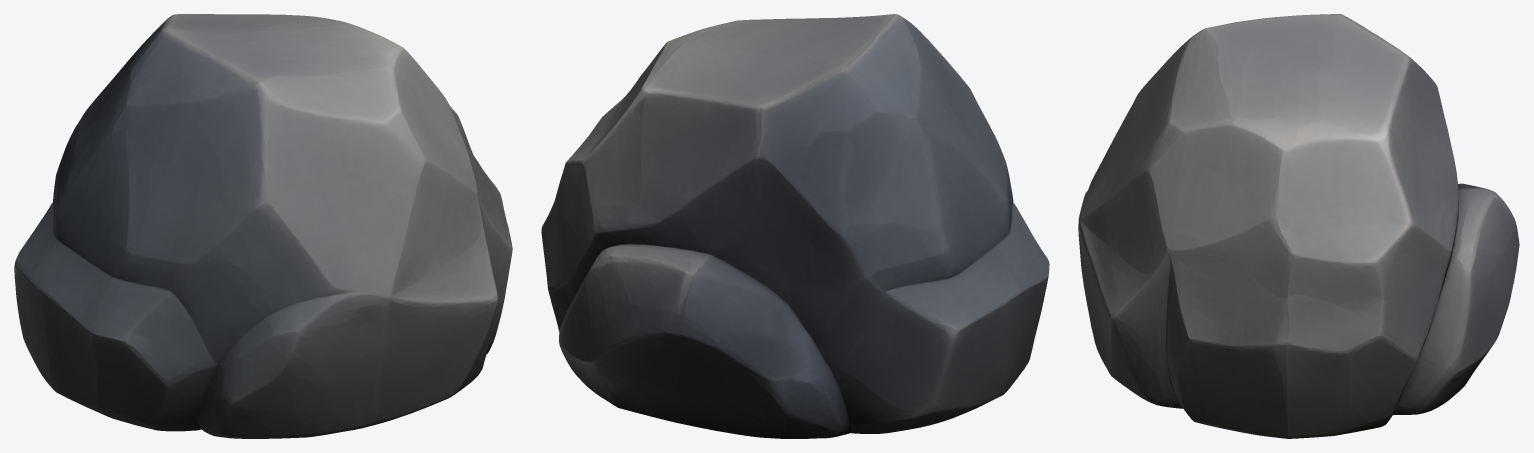
The model's file is rock.glb.
3 views of the same model, side by side, from view 1: azimuth 30°, elevation 25°; view 2: azimuth 150°, elevation 25°; view 3: azimuth 270°, elevation 25° (orthographic). The views are drawn at different scales.
Parts seen in each view (by area): view 1: geometry_0; view 2: geometry_0; view 3: geometry_0.
Part boxes in pixels (bbox=[...]): geometry_0: bbox=[14, 14, 512, 438]; geometry_0: bbox=[541, 14, 1049, 438]; geometry_0: bbox=[1078, 14, 1519, 438].
Size of the model in its own units: 0.994 by 0.7053 by 0.9282.
1 material, 1 textured.
